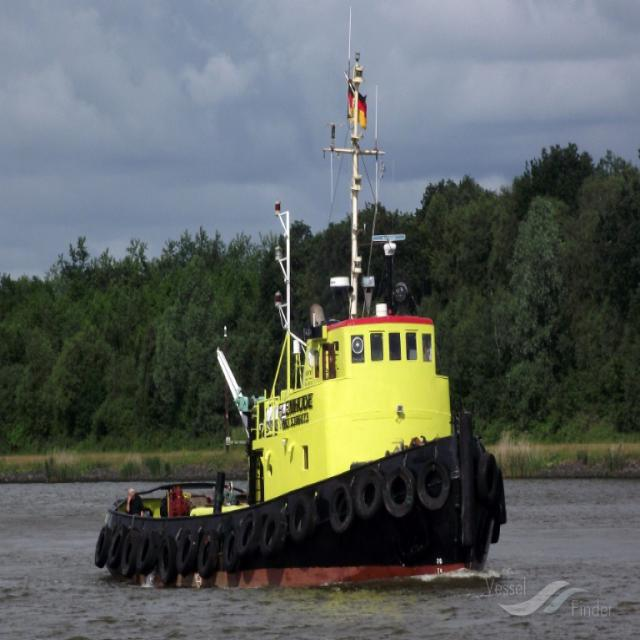tugboat: (100, 302, 492, 578)
